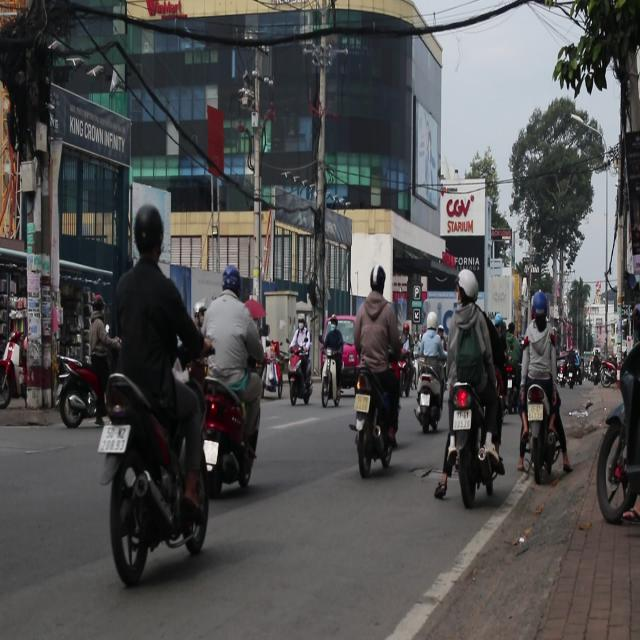motorbike: (98, 364, 212, 586), (192, 368, 256, 500), (444, 388, 487, 516), (351, 362, 397, 476), (521, 382, 567, 486), (55, 353, 105, 428), (415, 359, 445, 436), (316, 347, 344, 418), (1, 333, 26, 410), (287, 339, 311, 409), (600, 361, 620, 388)
